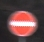No entry: (5, 6, 39, 37)
